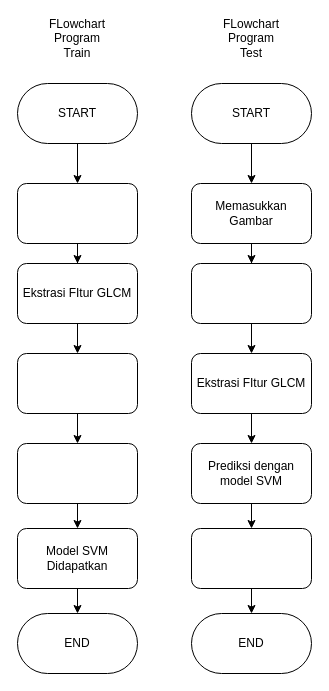
The diagram is 329 pixels wide and 691 high, and some of its shapes have lost their labels. The shapes that lost their labels are listed below. From the top down, each one's box as (x1, y1, x2, y2) in pixels, then its label:
(16, 182, 138, 244): Pengumpulan Dataset
(190, 262, 312, 324): Preprocessing gambar
(16, 352, 138, 414): Balancing Dataset
(16, 442, 138, 504): Pelatihan Model SVM
(190, 528, 312, 588): Hasil disimpan pada folder output dan ditampilkan pada terminal
